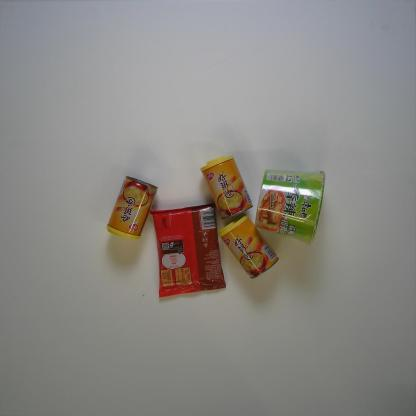Canned Food: (218, 212, 279, 280), (200, 155, 254, 220), (106, 176, 159, 240)
Dessert: (150, 202, 226, 298)
Instant Noodles: (255, 168, 326, 246)
